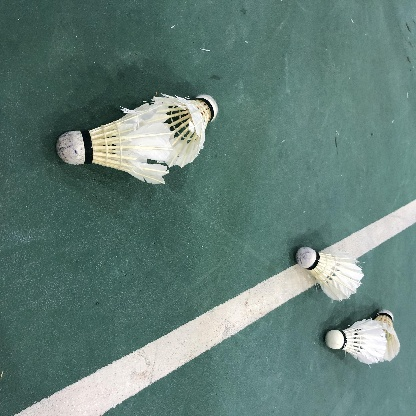ball_single: (56, 102, 172, 184), (146, 95, 218, 168), (296, 247, 365, 300), (325, 319, 387, 364), (367, 309, 400, 362)
